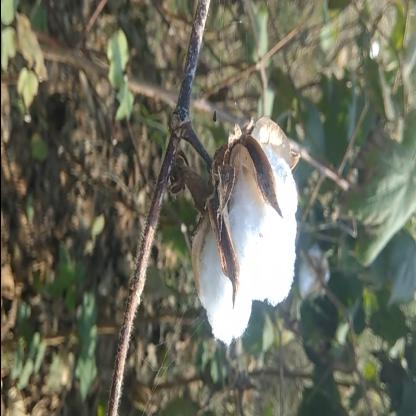cotton_ready: (146, 93, 308, 336)
